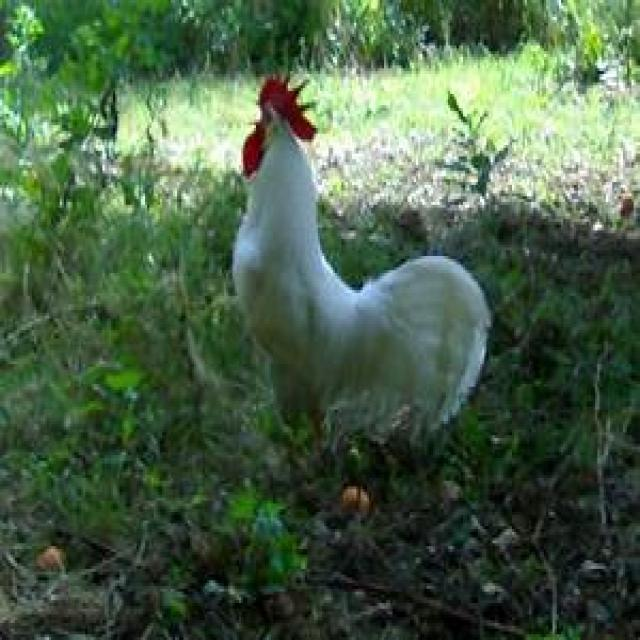chicken: (210, 31, 505, 487)
